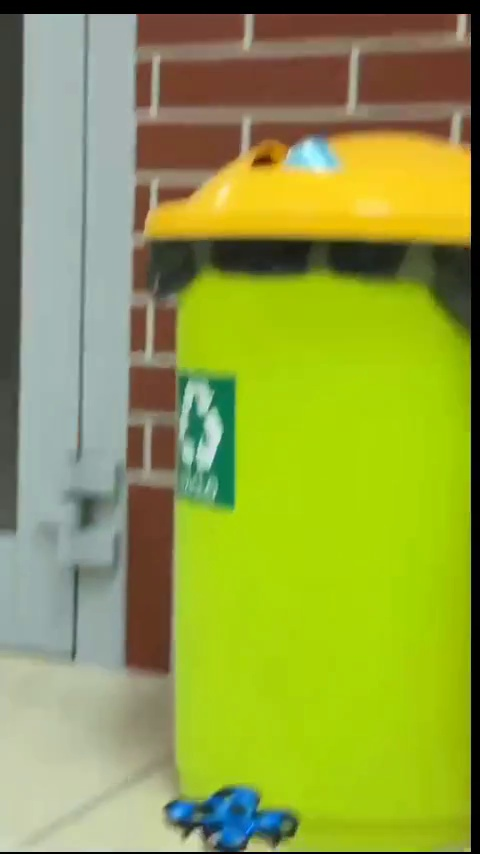drone: (165, 788, 299, 849)
